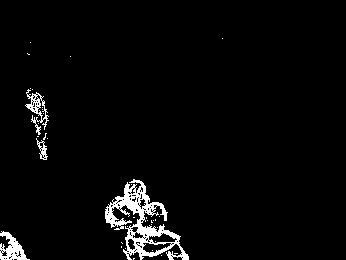person: (124, 202, 185, 260), (103, 178, 149, 241), (25, 88, 50, 161)
